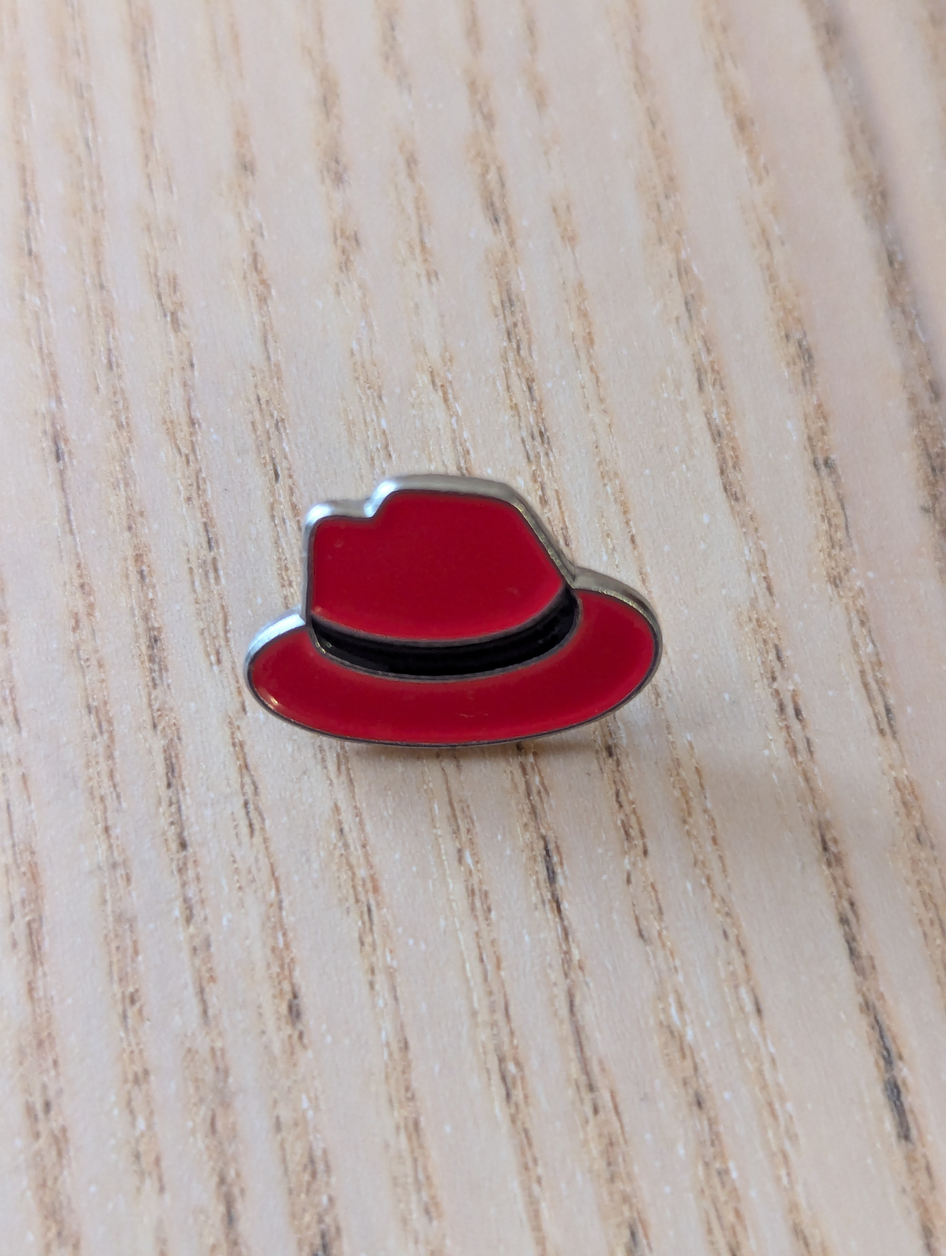Red-Hat: (181, 395, 796, 903)
